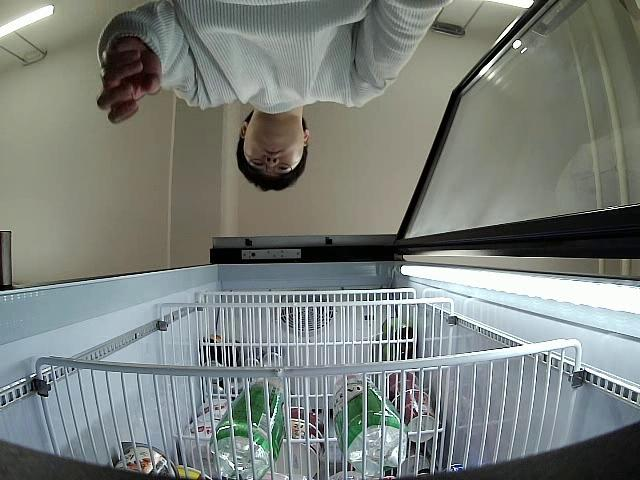00_hand: (96, 37, 162, 125)
